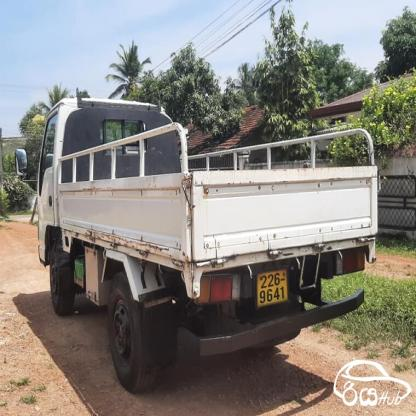Lorry back: (10, 87, 386, 397)
number plate: (254, 267, 288, 308)
